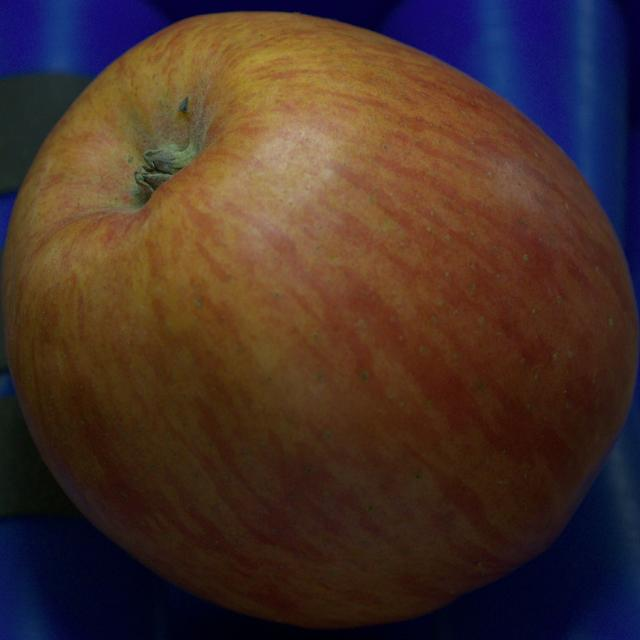apple: (2, 12, 639, 627)
